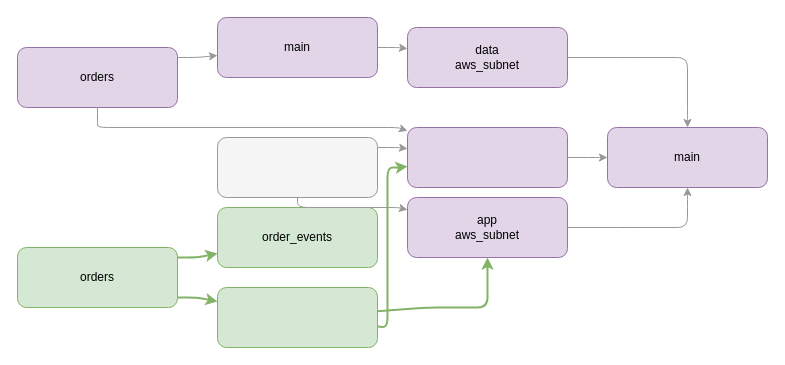
Image size: 785x365. Some labels were removed from this diagram. The box of each missing label's shape, as (x1, y1, x2, y2) in pixels:
app: (406, 126, 568, 188)
fulfil: (216, 286, 378, 348)
web: (216, 136, 378, 198)
